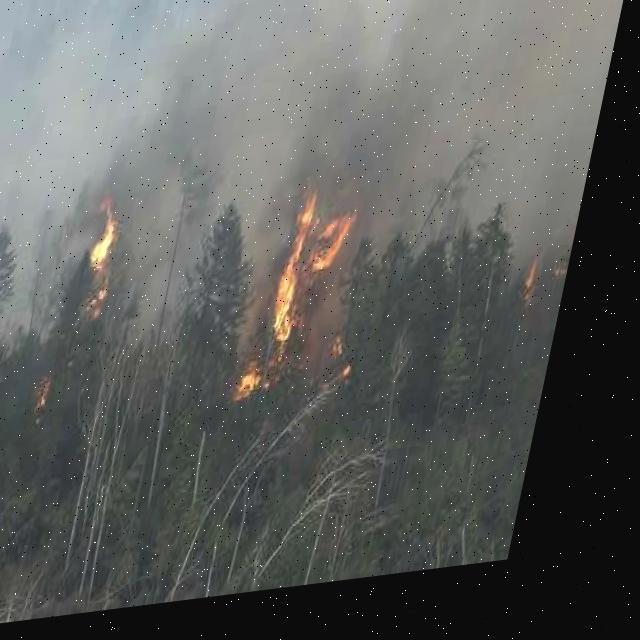Fire: (250, 179, 375, 416), (88, 196, 139, 323), (343, 340, 378, 398), (536, 268, 559, 322), (49, 375, 71, 430)
